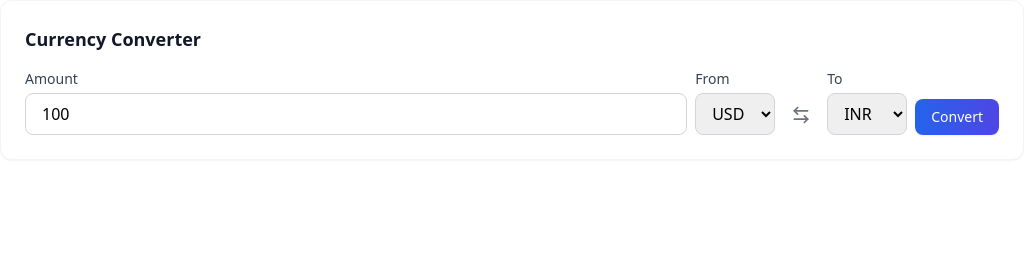
Test: CurrencyConverter › converts an amount using live rates
This screenshot has width=1024, height=263.
Click the button "Convert" at (957, 117), box [915, 99, 999, 135]
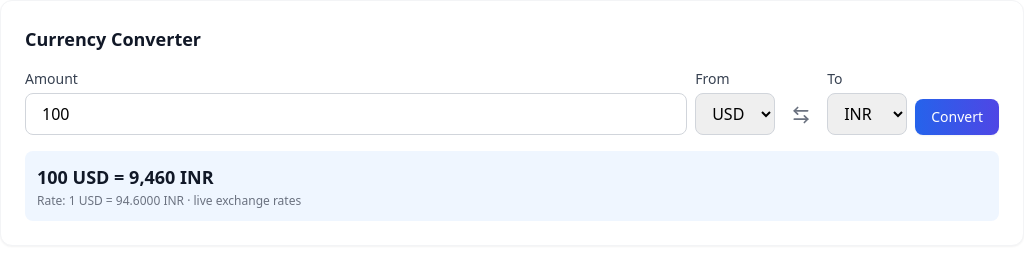
Expected: the text "100 USD = 9,460 INR" is shown, [37, 165, 214, 189]
Expected: the text "Rate: 1 USD = 94.6000 INR · live exchange rates" is shown, [37, 192, 301, 209]
